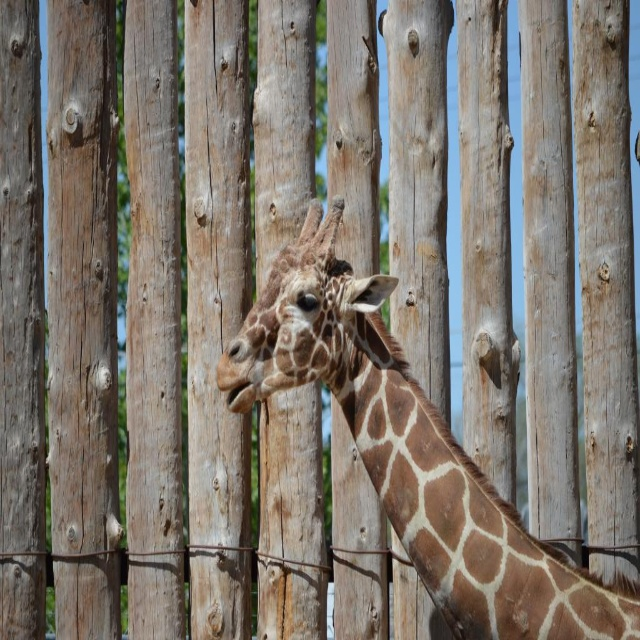Giraffe: (217, 214, 624, 628)
